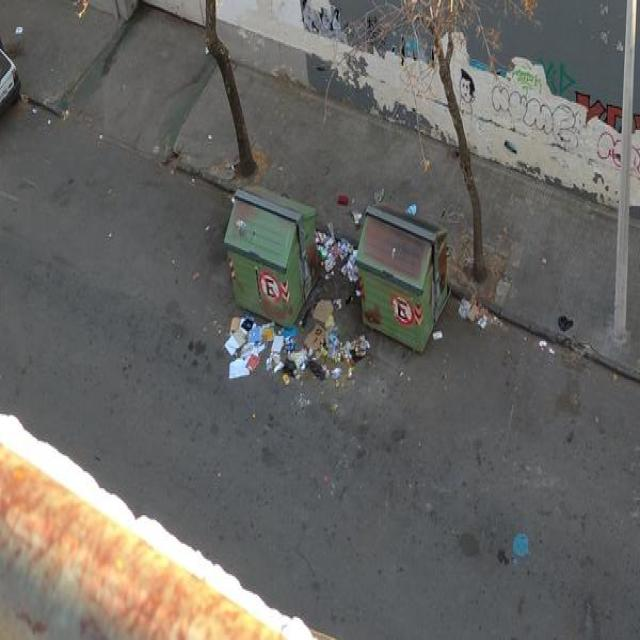garbage: (214, 294, 358, 387), (312, 212, 362, 302), (450, 290, 496, 340)
